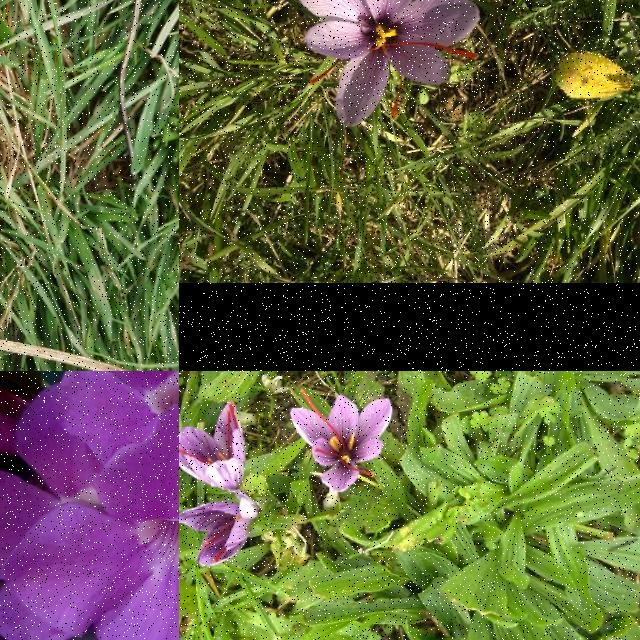flower: (288, 0, 481, 128), (291, 388, 394, 492), (179, 401, 247, 492), (179, 490, 259, 567)
